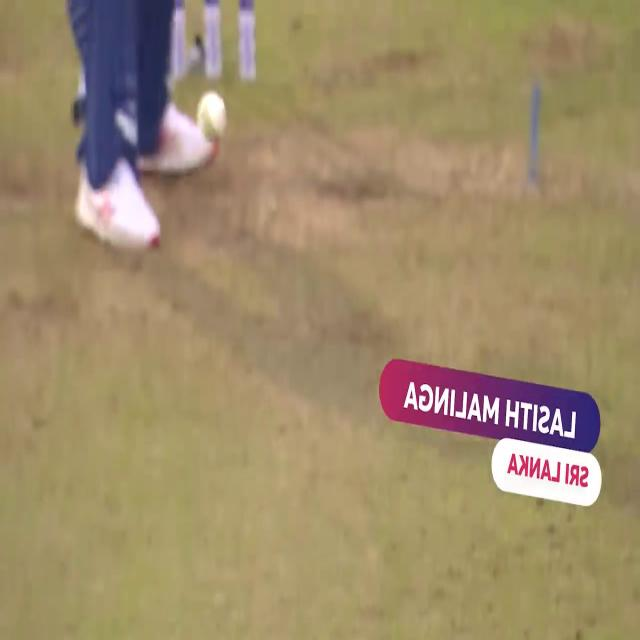ball: (197, 85, 229, 148)
